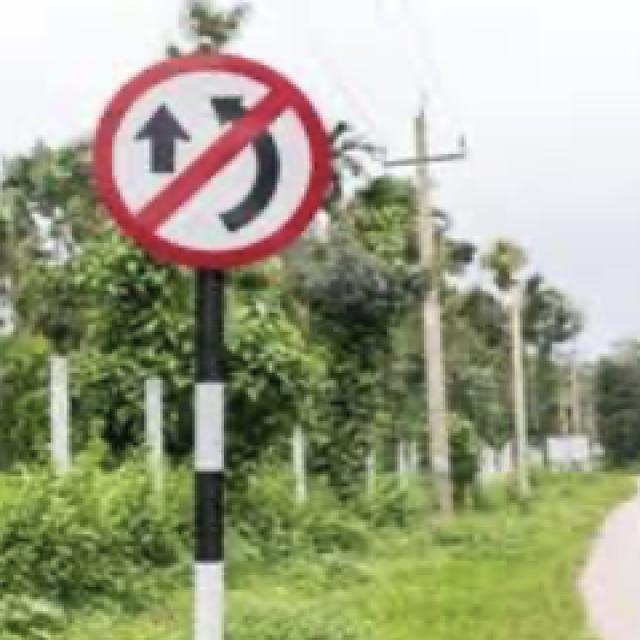overtaking prohibited: (88, 52, 333, 264)
